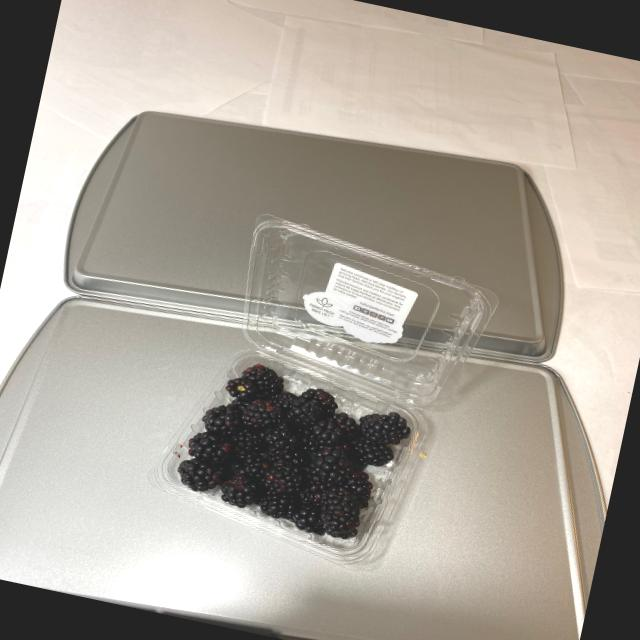blackberries: (172, 346, 432, 537)
